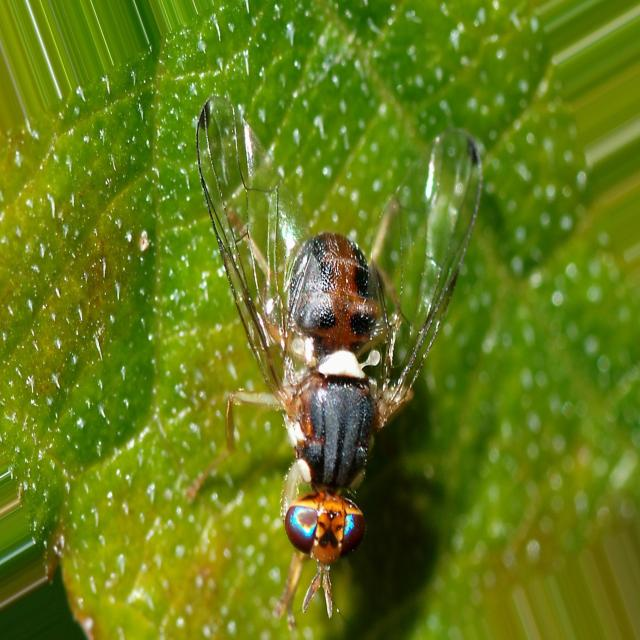Olive Fruit Fly: (196, 98, 482, 624)
